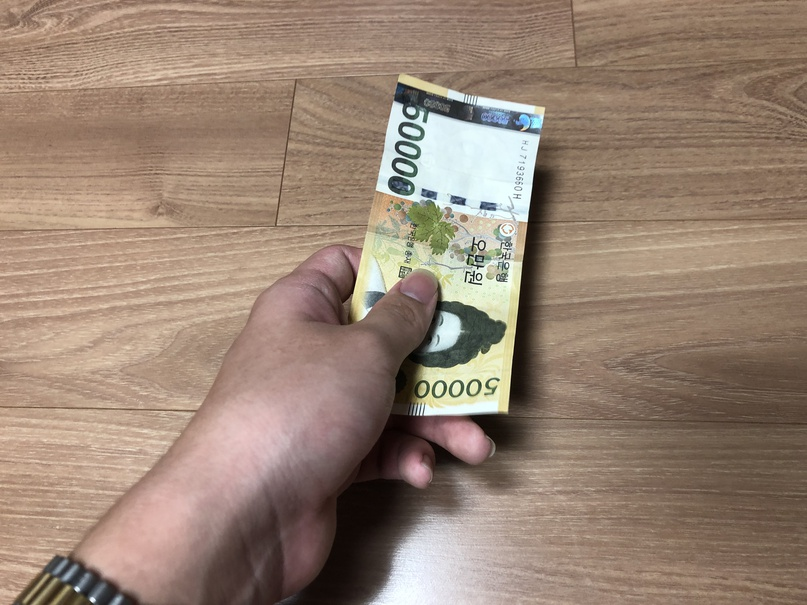50000won: (348, 72, 546, 416)
